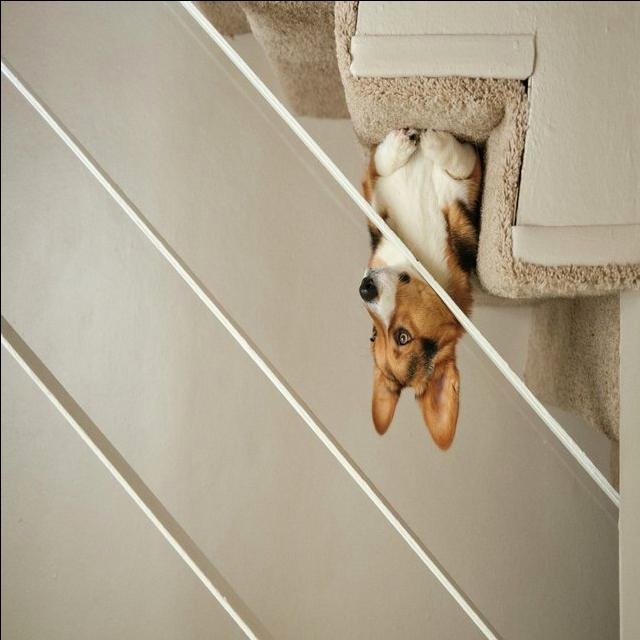corgi: (356, 127, 481, 452)
